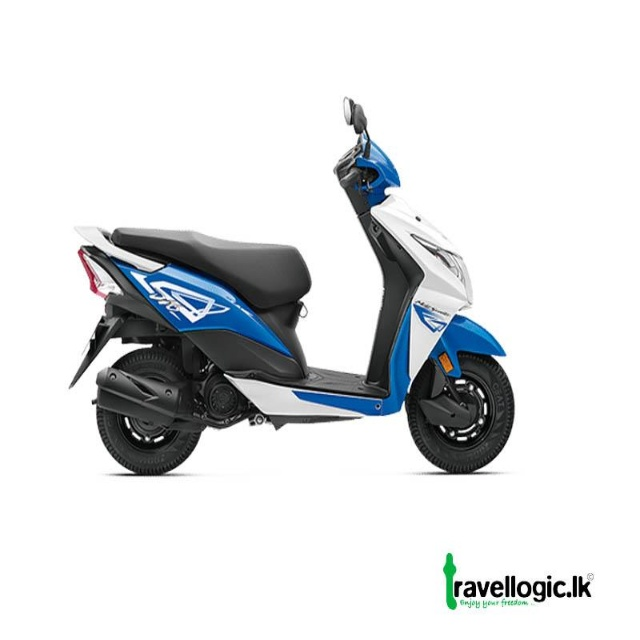Motorcycle: (68, 96, 515, 476)
